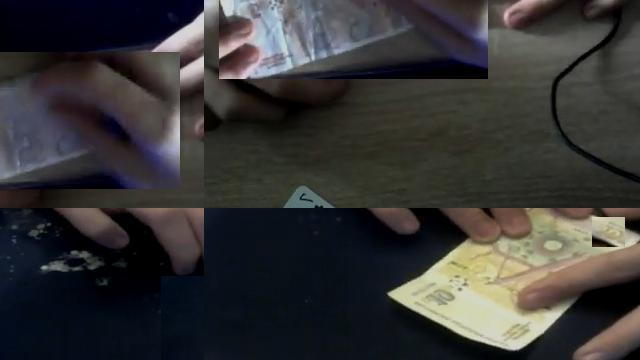10leva: (592, 217, 624, 247)
5leva: (0, 52, 180, 181), (220, 0, 488, 79)
